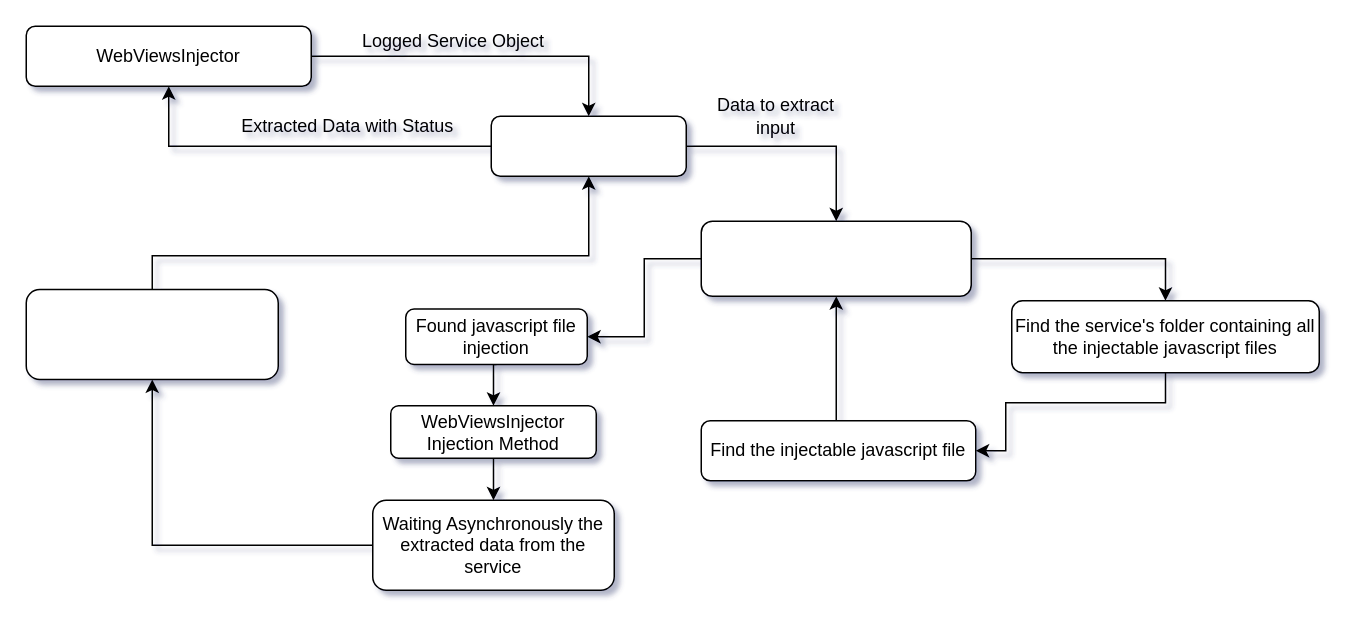
The diagram is 1355 pixels wide and 626 high, and some of its shapes have lost their labels. The centre of each missing label's shape, as x and y in pixels:
Find the appropriate data to extract: (x=835, y=258)
WebViewsExtractor: (x=588, y=145)
Wrapping the data inside a Status Wrapper showing the extraction process status: (x=151, y=334)
